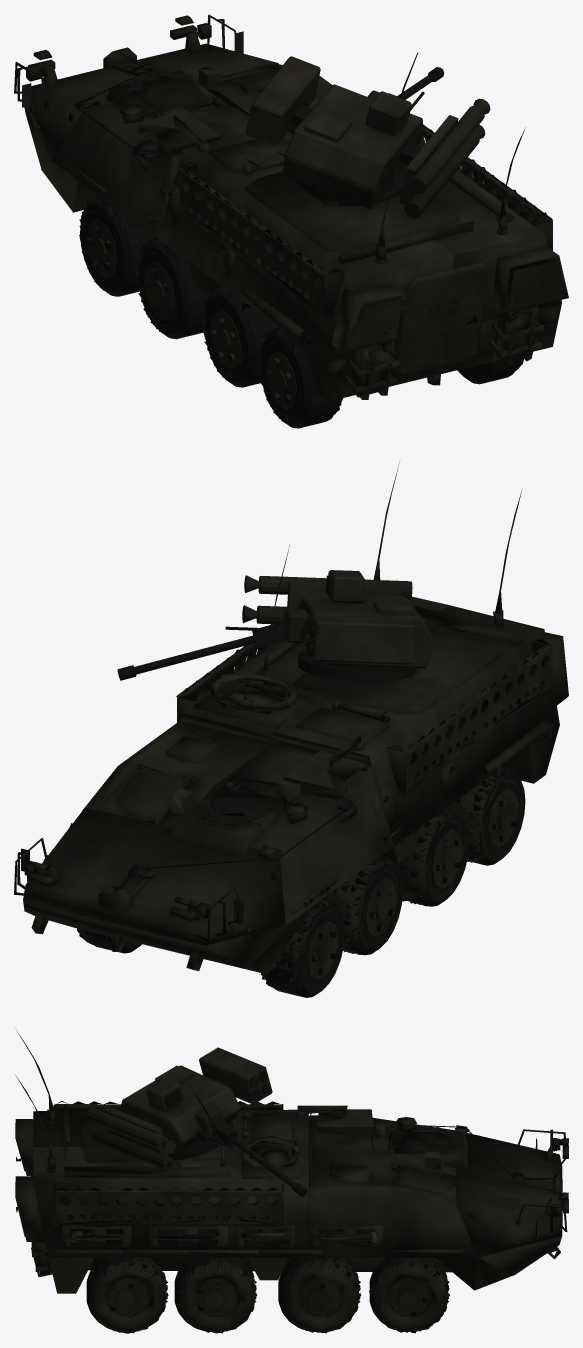
Rendered from strykershorad-wreck.glb.
The picture shows the model from 3 angles, top to bottom: view 1: azimuth 30°, elevation 25°; view 2: azimuth 150°, elevation 25°; view 3: azimuth 270°, elevation 25°; orthographic projection. The views are drawn at different scales.
Parts seen in each view (by area): view 1: hull, turret; view 2: hull, turret, barrel; view 3: hull, turret, barrel.
Part boxes in pixels (box(x1,y1,x2,y2)): hull: box(14, 14, 568, 428); turret: box(245, 56, 490, 218); hull: box(14, 462, 568, 997); turret: box(225, 570, 433, 681); barrel: box(117, 621, 286, 680); hull: box(15, 1030, 568, 1333); turret: box(86, 1047, 272, 1174); barrel: box(211, 1118, 307, 1196).
Size of the model in its own units: 3.32 by 3.37 by 6.94.
1 material, 1 textured.
